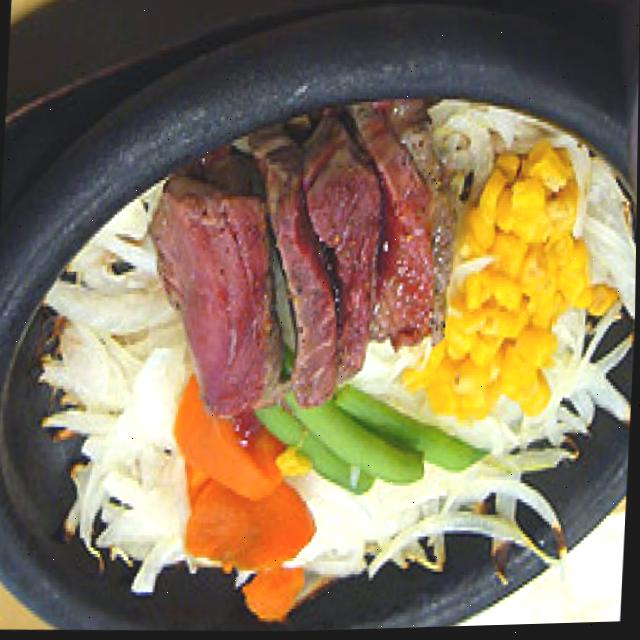牛肉菜式: (150, 92, 463, 432)
